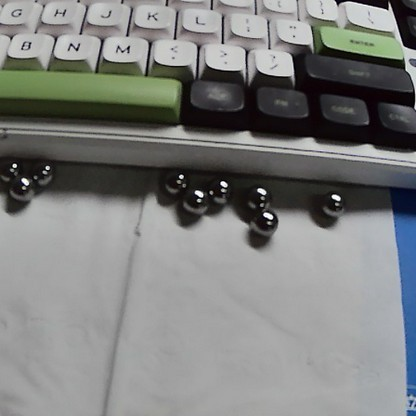ironball: (182, 182, 216, 223), (7, 173, 45, 208), (312, 187, 349, 221), (240, 184, 277, 215), (158, 164, 188, 199), (252, 207, 285, 238), (31, 158, 60, 189), (208, 170, 233, 199), (0, 154, 23, 183)
